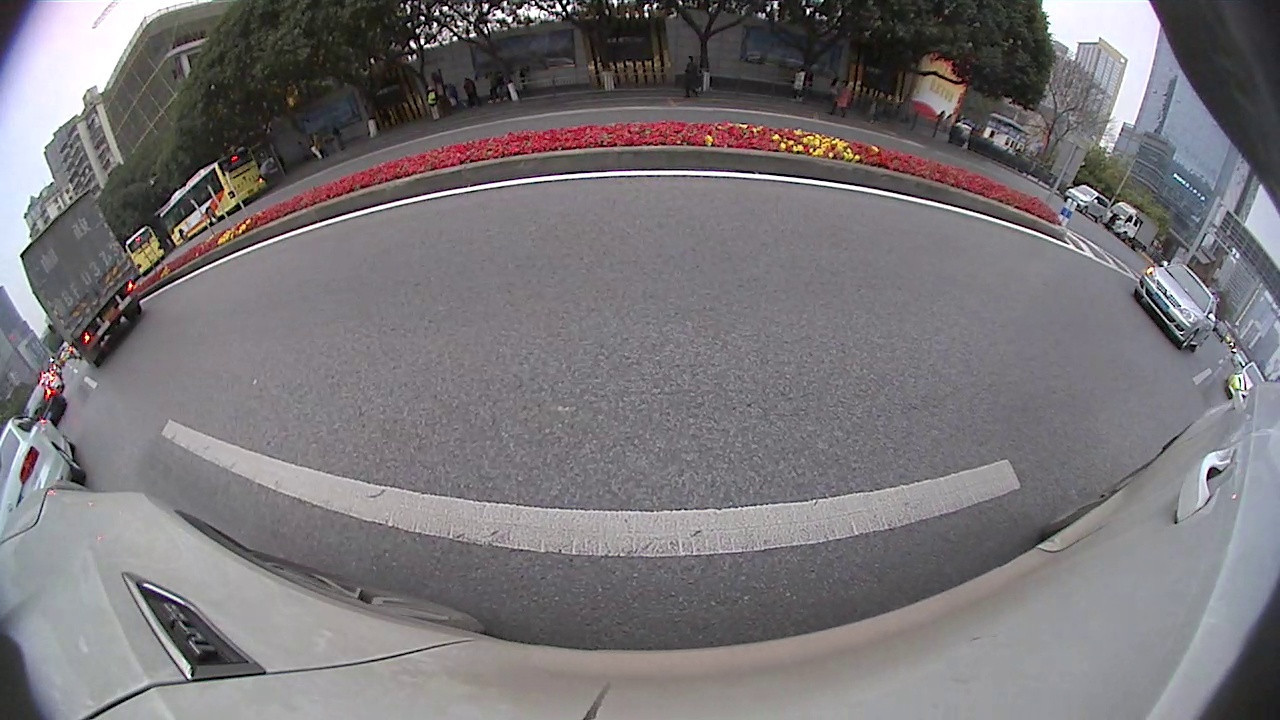bus: (159, 144, 270, 251), (122, 222, 169, 279)
car: (1, 414, 87, 528), (1134, 260, 1220, 352), (1061, 182, 1114, 227), (23, 380, 70, 427), (1227, 360, 1270, 401)
front: (1183, 326, 1197, 347)
rear: (57, 450, 80, 478), (203, 208, 220, 225)
truck: (17, 187, 144, 372), (1102, 199, 1162, 257)
